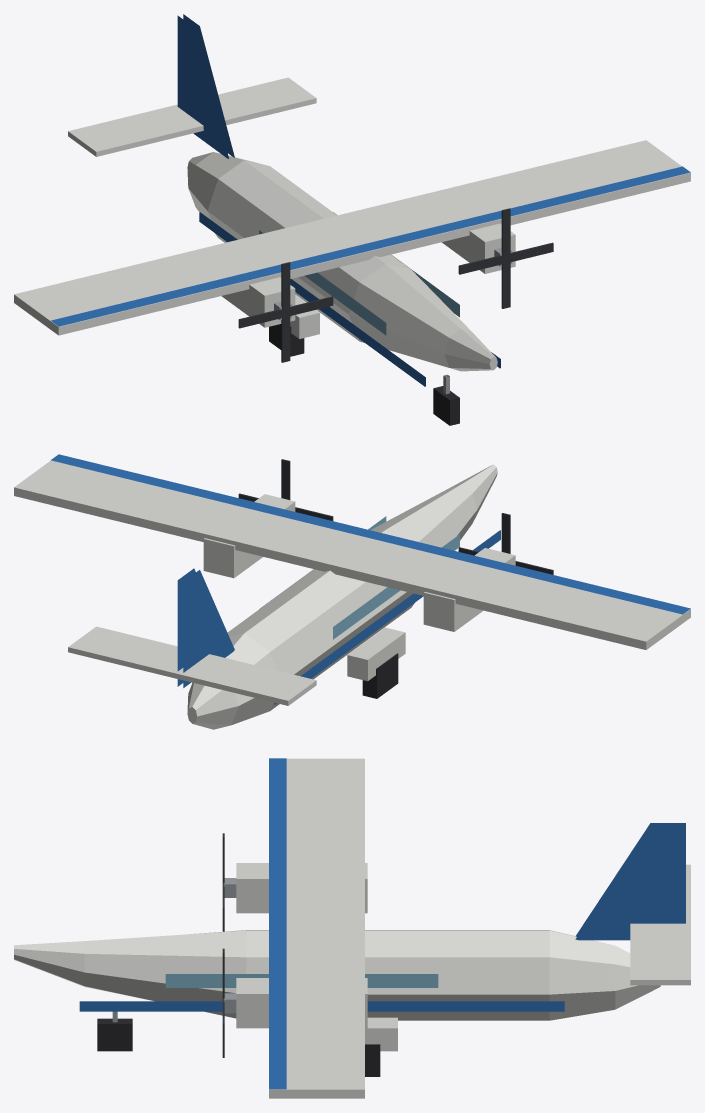
3 views of the same model, one above another, from view 1: azimuth 30°, elevation 25°; view 2: azimuth 150°, elevation 25°; view 3: azimuth 270°, elevation 25° (orthographic). The views are drawn at different scales.
Parts seen in each view (by area): view 1: plane; view 2: plane; view 3: plane.
Part boxes in pixels (x1=…): plane: x1=14, y1=14, x2=690, y2=425; plane: x1=14, y1=454, x2=690, y2=729; plane: x1=14, y1=758, x2=690, y2=1098.
Bounding box in the file's own units: 15.5 × 4.9 × 13.4.
